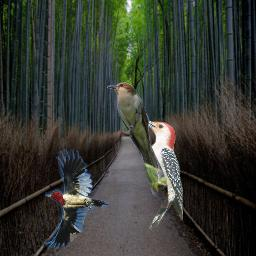Cuckoo: (107, 82, 167, 196)
Woodpecker: (45, 149, 109, 249), (138, 117, 183, 230)
